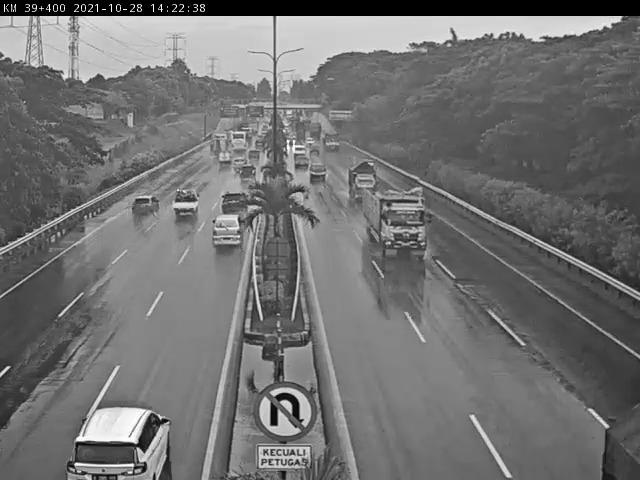big truck: (360, 187, 438, 260)
car: (77, 404, 162, 480), (213, 213, 248, 252), (173, 185, 200, 223), (129, 195, 163, 222), (220, 192, 251, 215), (234, 156, 258, 177), (310, 163, 329, 183), (293, 154, 309, 170)
small truck: (348, 161, 381, 198), (212, 138, 229, 152), (217, 150, 233, 164)
